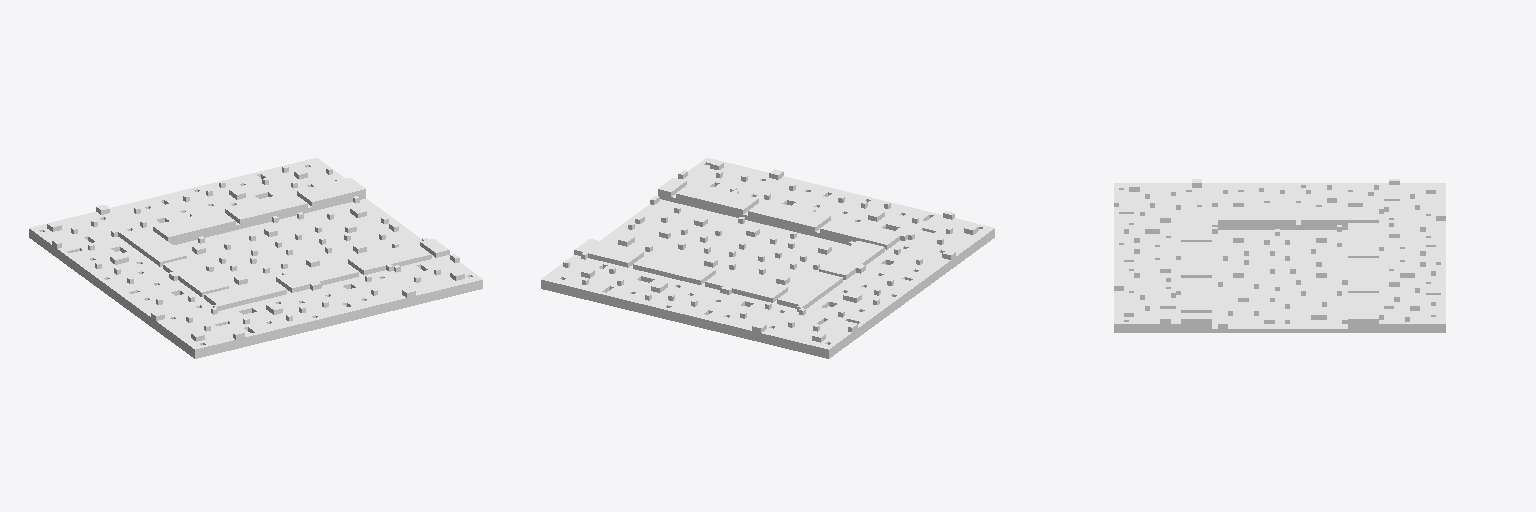
Rendered from EarthPath_3.obj.
The picture shows the model from 3 angles: view 1: azimuth 30°, elevation 25°; view 2: azimuth 150°, elevation 25°; view 3: azimuth 270°, elevation 25°; orthographic projection.
Visible parts, largest first — view 1: EarthPath_3_EarthPath_2.001; view 2: EarthPath_3_EarthPath_2.001; view 3: EarthPath_3_EarthPath_2.001.
Part boxes in pixels (left/top/right/bottom): EarthPath_3_EarthPath_2.001: left=29, top=158, right=482, bottom=358; EarthPath_3_EarthPath_2.001: left=541, top=158, right=994, bottom=358; EarthPath_3_EarthPath_2.001: left=1114, top=179, right=1445, bottom=332.
Bounding box in the file's own units: 1 × 0.0469 × 1.